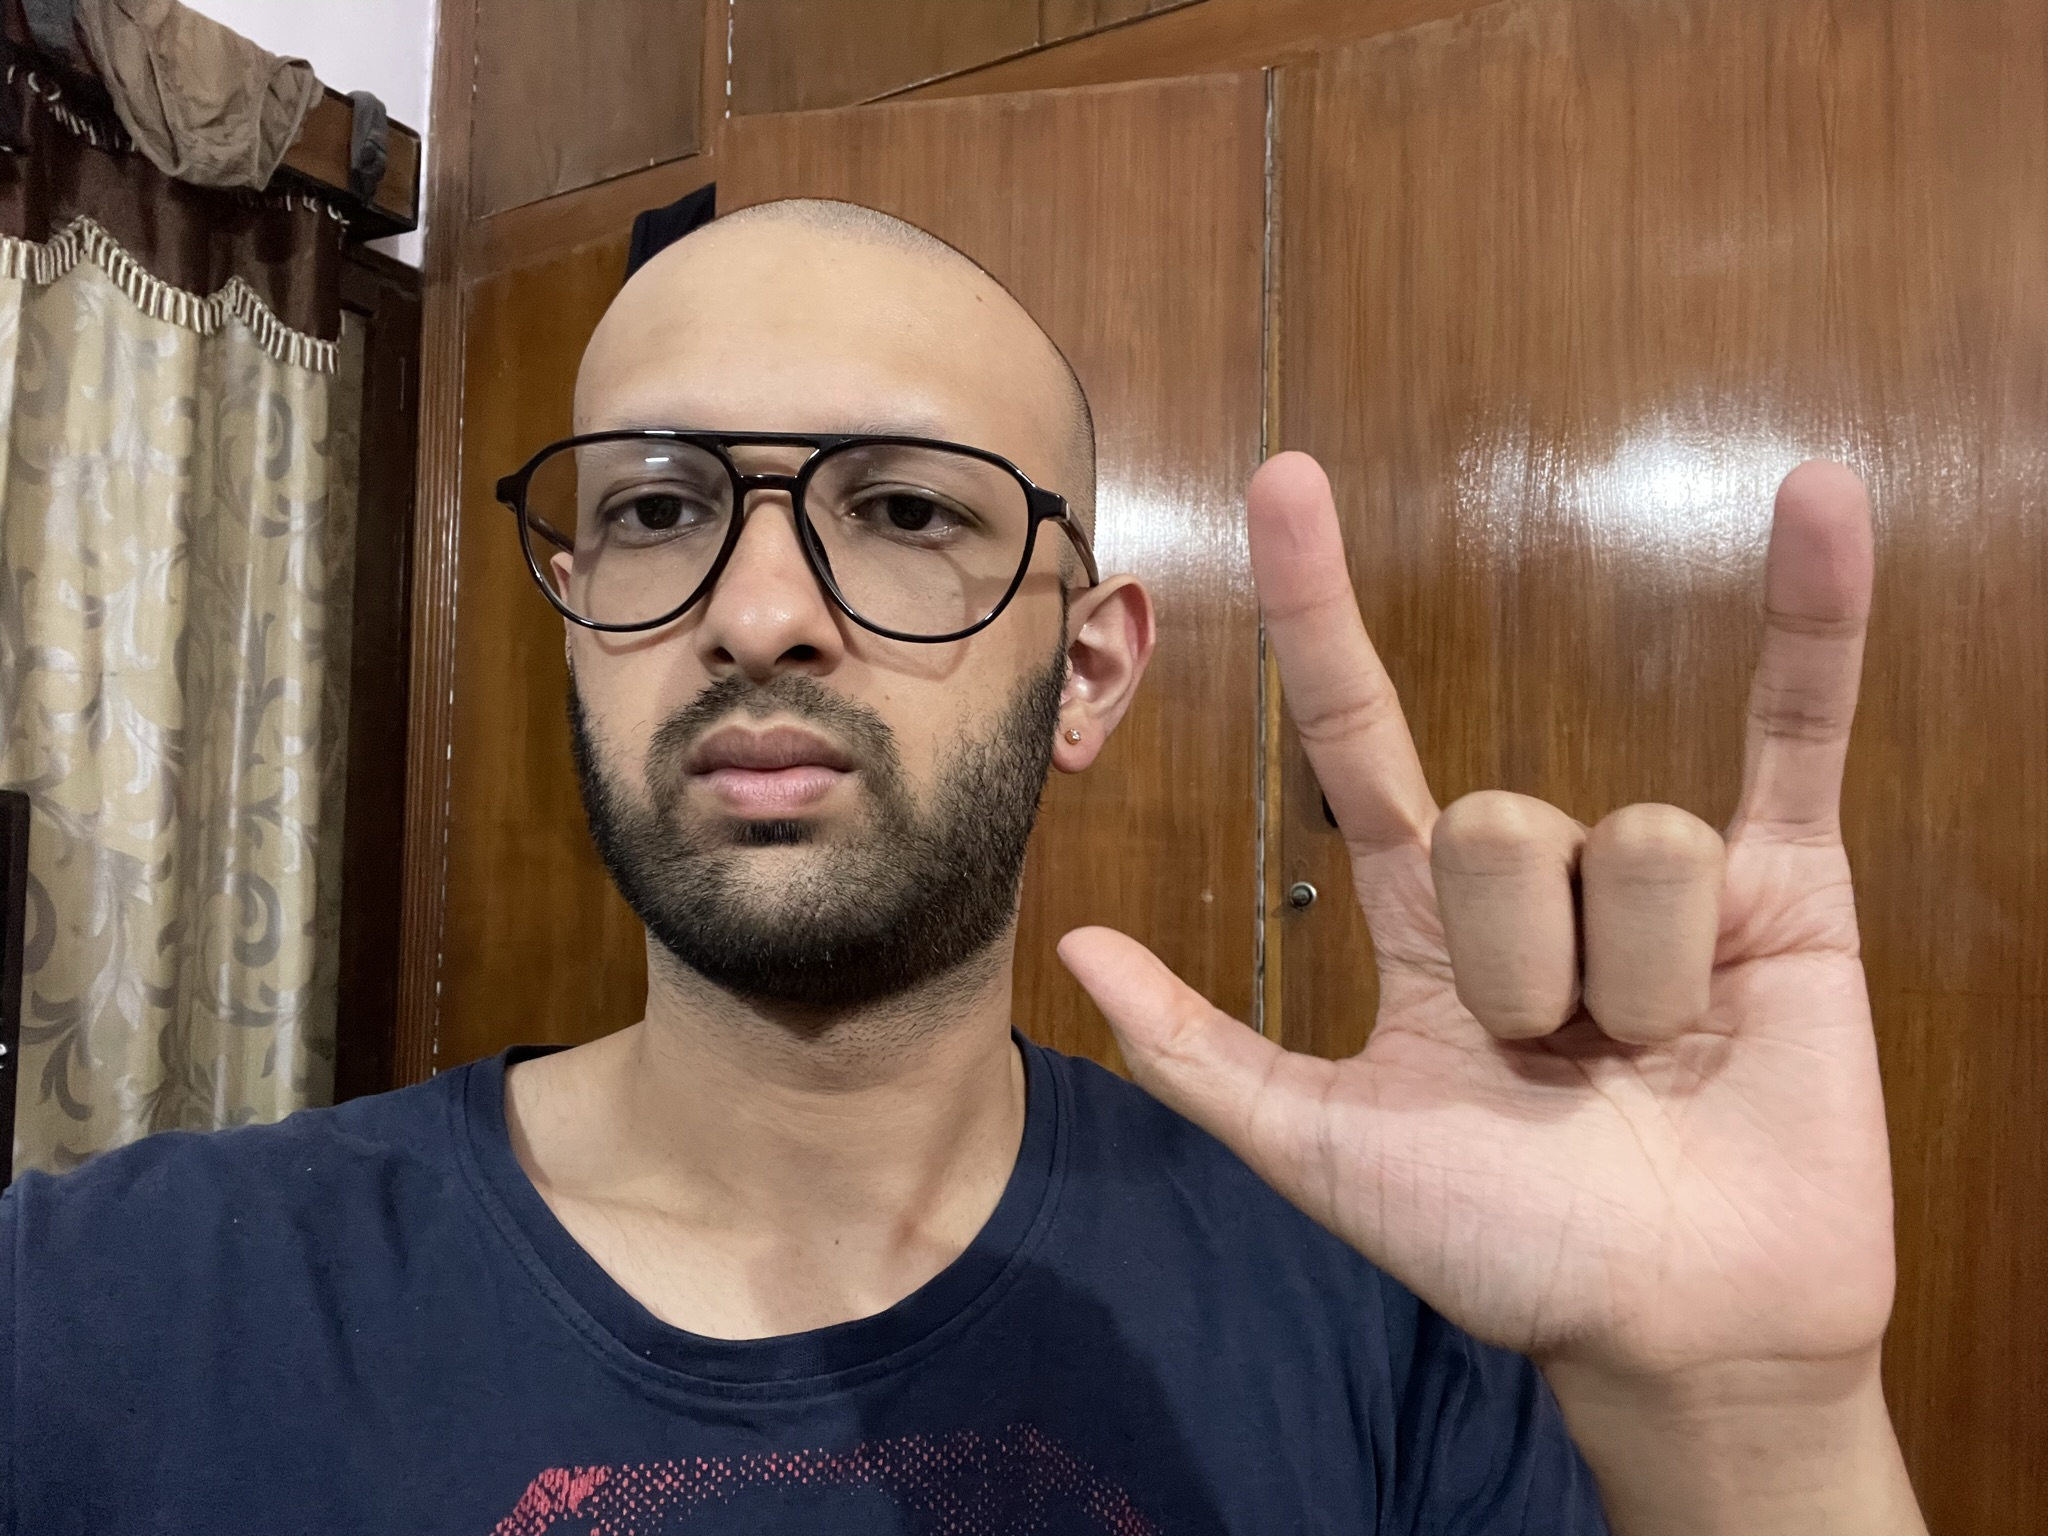I Love You: (1048, 432, 1893, 1371)
